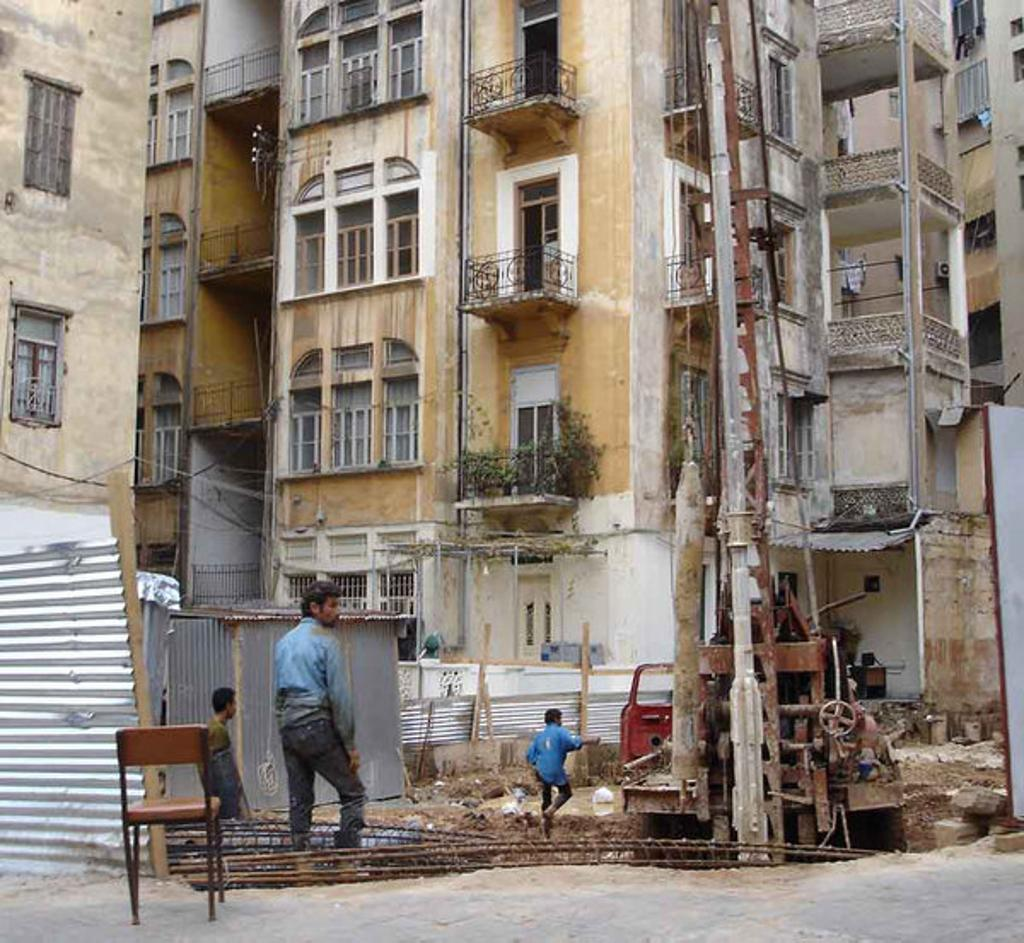face: (319, 593, 339, 623)
